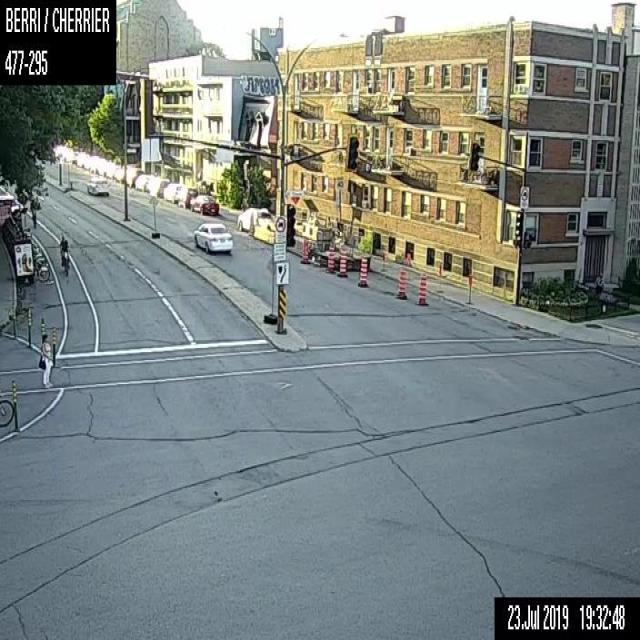construction: (11, 379, 18, 428), (466, 273, 474, 304), (359, 256, 367, 286), (418, 273, 426, 303), (398, 269, 406, 296), (338, 250, 346, 273), (11, 303, 16, 337), (327, 247, 334, 269), (27, 307, 31, 345), (51, 327, 55, 364), (302, 237, 308, 260), (40, 316, 44, 345)
cyclist: (58, 234, 69, 274)
pedestrian: (37, 332, 53, 388)
vehicle: (193, 221, 232, 253), (237, 207, 270, 230), (189, 193, 218, 214), (177, 186, 197, 207), (162, 182, 184, 201), (86, 176, 109, 194), (149, 178, 169, 196), (134, 173, 154, 190), (125, 169, 144, 186)
